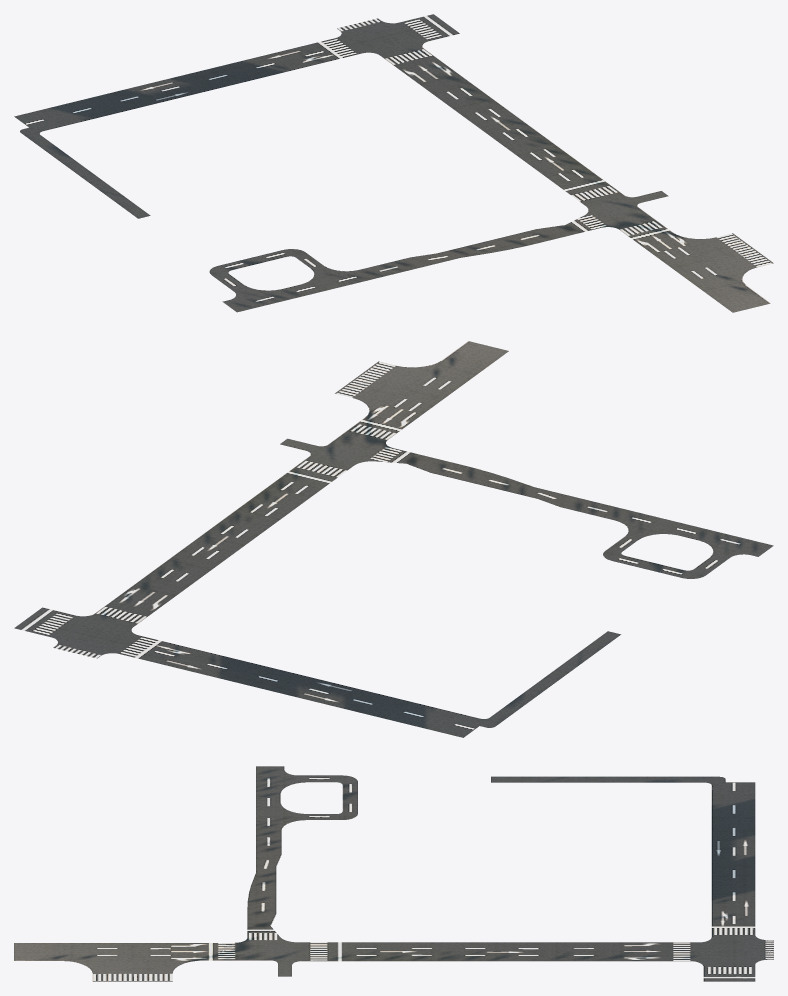
The model's file is Road.obj.
3 renders of one model, top to bottom at view 1: azimuth 30°, elevation 25°; view 2: azimuth 150°, elevation 25°; view 3: azimuth 270°, elevation 25°, orthographic. The views are drawn at different scales.
Visible parts, largest first — view 1: Road; view 2: Road; view 3: Road.
Part boxes in pixels (left/top/right/bottom): Road: left=14, top=14, right=773, bottom=312; Road: left=14, top=341, right=773, bottom=737; Road: left=14, top=766, right=773, bottom=981.
Bounding box in the file's own units: 426 × 0 × 636.
Materials: 1 (1 with a texture image).
